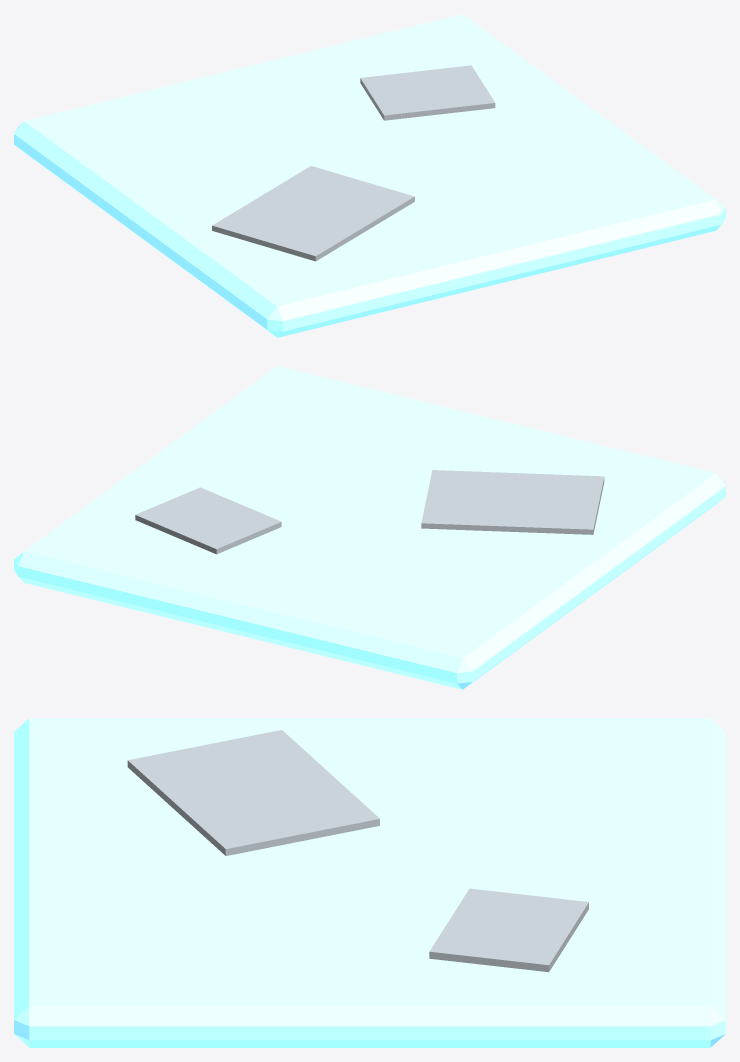
The model's file is ice-slab.glb.
3 views of the same model, one above another, from view 1: azimuth 30°, elevation 25°; view 2: azimuth 150°, elevation 25°; view 3: azimuth 270°, elevation 25° (orthographic). The views are drawn at different scales.
Parts seen in each view (by area): view 1: ice-slab; view 2: ice-slab; view 3: ice-slab.
Boxes of the visible parts, x1,y1,x2,y2 form: ice-slab: [14, 14, 725, 337]; ice-slab: [14, 366, 725, 689]; ice-slab: [14, 718, 725, 1047].
Size of the model in its own units: 0.92 by 0.07 by 0.92.
